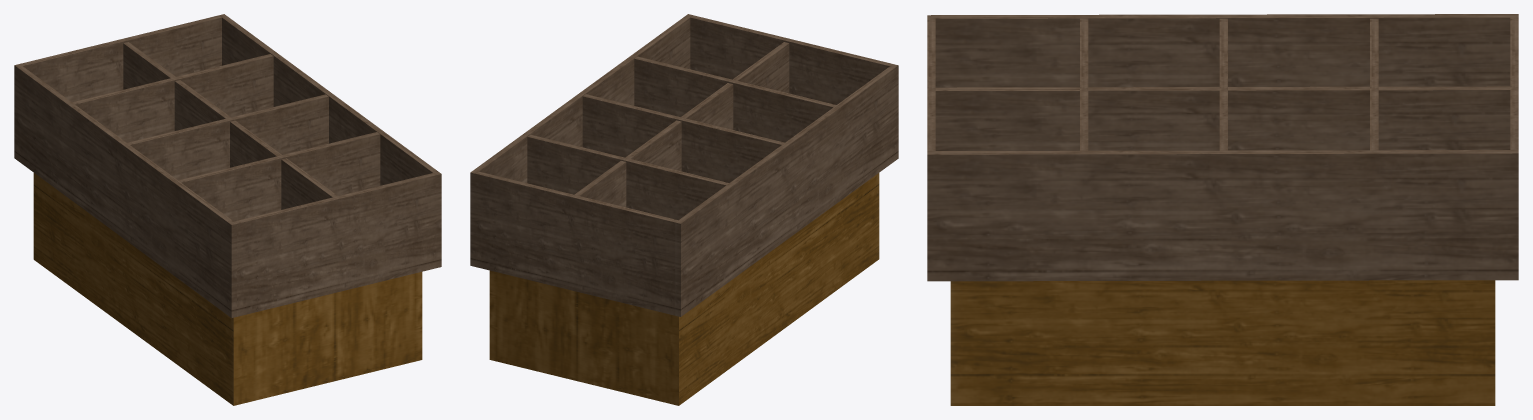
The model's file is cabin06b.fbx.
The picture shows the model from 3 angles, left to right: view 1: azimuth 30°, elevation 25°; view 2: azimuth 150°, elevation 25°; view 3: azimuth 270°, elevation 25°; orthographic projection. The views are drawn at different scales.
Parts seen in each view (by area): view 1: cabin06b; view 2: cabin06b; view 3: cabin06b.
Part boxes in pixels (x1=…): cabin06b: x1=14, y1=14, x2=441, y2=405; cabin06b: x1=470, y1=14, x2=898, y2=405; cabin06b: x1=927, y1=14, x2=1518, y2=405.
Size of the model in its own units: 78.25 by 67.89 by 140.
